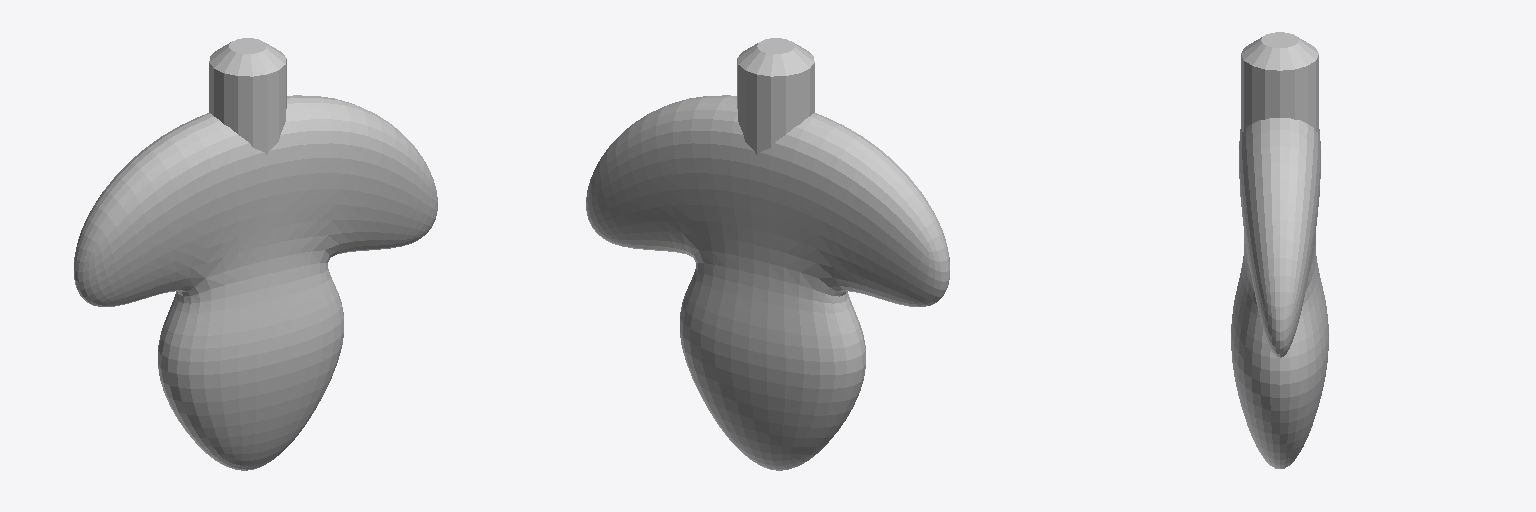
The model's file is Leaf4.obj.
The picture shows the model from 3 angles: view 1: azimuth 30°, elevation 25°; view 2: azimuth 150°, elevation 25°; view 3: azimuth 270°, elevation 25°; orthographic projection.
Parts seen in each view (by area): view 1: Cylinder.002; view 2: Cylinder.002; view 3: Cylinder.002.
Part boxes in pixels (left/top/right/bottom): Cylinder.002: left=74, top=38, right=437, bottom=470; Cylinder.002: left=586, top=38, right=949, bottom=470; Cylinder.002: left=1231, top=32, right=1328, bottom=468.
Size of the model in its own units: 2.68 by 3 by 0.6307.